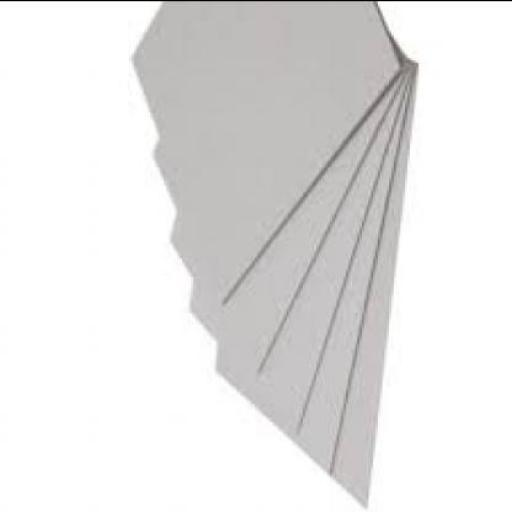cardboard: (130, 2, 416, 510), (168, 2, 408, 437), (212, 2, 416, 510), (187, 2, 403, 478), (148, 2, 405, 380), (127, 2, 396, 307)
